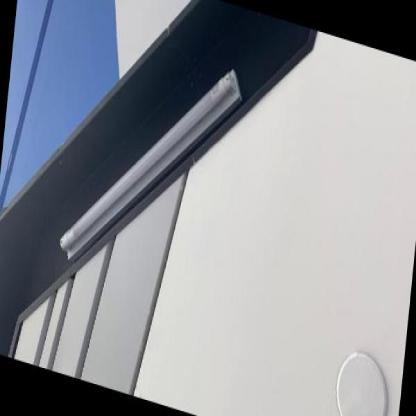light_off: (51, 0, 251, 330)
